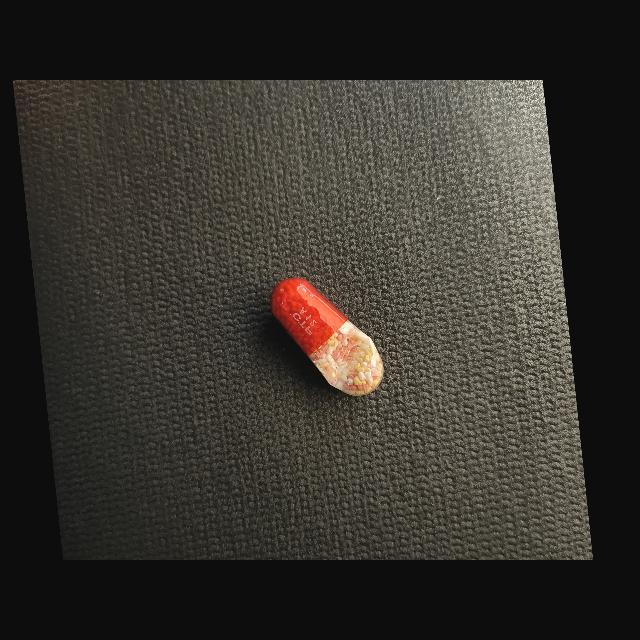Defective Capsule: (271, 278, 384, 396)
